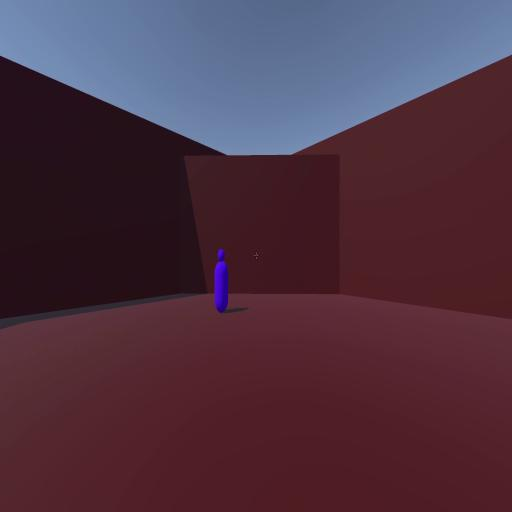Crosshair: (254, 252, 258, 261)
Target: (214, 247, 229, 313)
